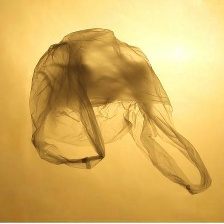plastic_bag: (22, 23, 218, 202)
